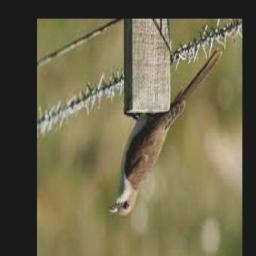Cuckoo: (108, 50, 221, 216)
